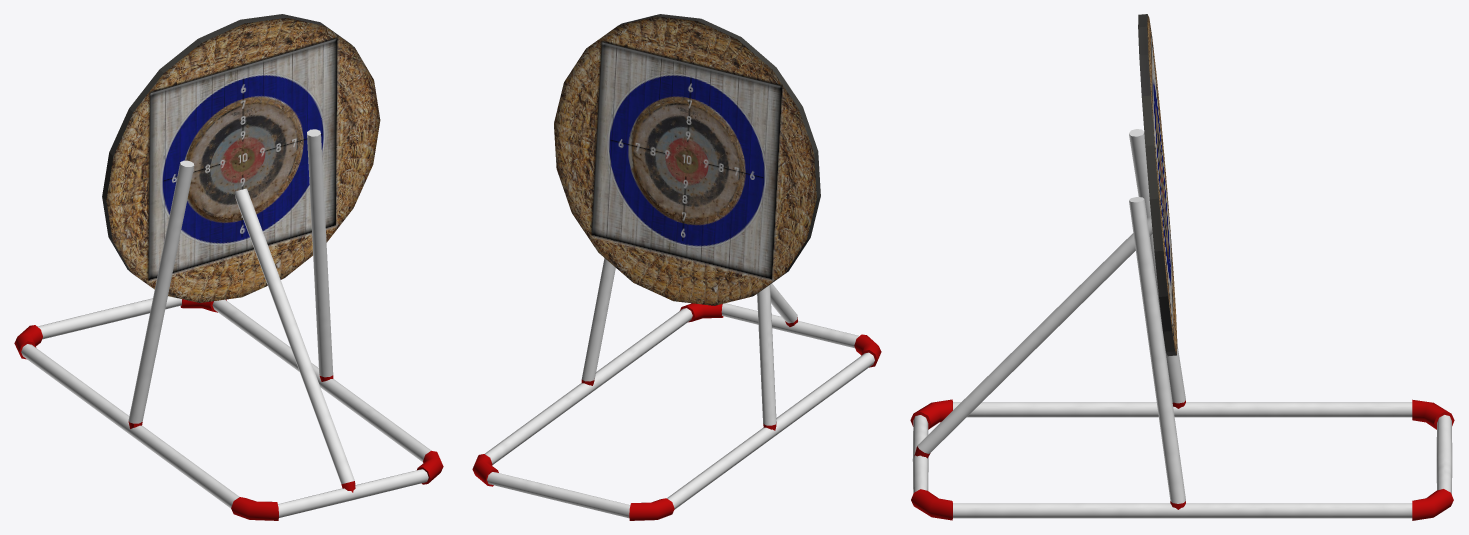
The picture shows the model from 3 angles, left to right: view 1: azimuth 30°, elevation 25°; view 2: azimuth 150°, elevation 25°; view 3: azimuth 270°, elevation 25°; orthographic projection. The views are drawn at different scales.
Parts seen in each view (by area): view 1: Target new; view 2: Target new; view 3: Target new.
Part boxes in pixels (box(x1,y1,x2,y2)): Target new: box(14, 14, 443, 520); Target new: box(472, 14, 881, 520); Target new: box(910, 14, 1454, 520).
Size of the model in its own units: 60.23 by 85.27 by 95.4.
1 material, 1 textured.
